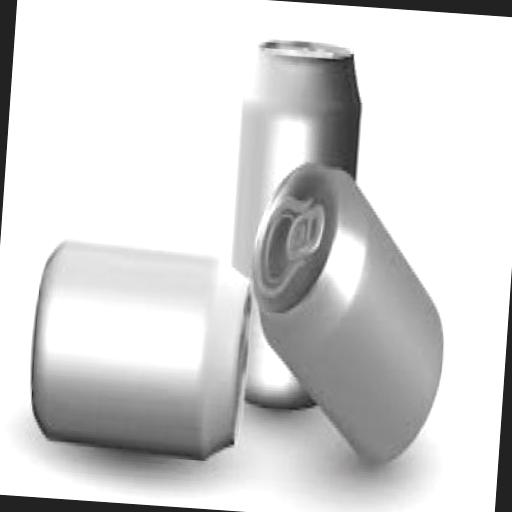metal: (240, 152, 458, 470), (222, 38, 368, 414), (26, 234, 258, 456)
